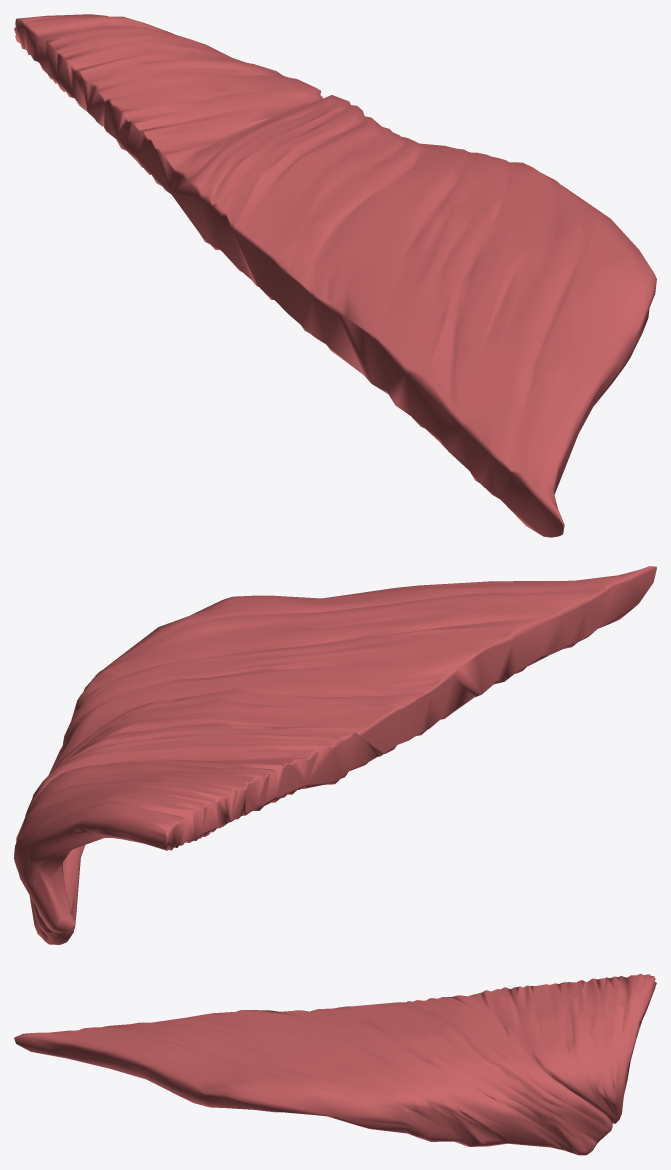
The picture shows the model from 3 angles, top to bottom: view 1: azimuth 30°, elevation 25°; view 2: azimuth 150°, elevation 25°; view 3: azimuth 270°, elevation 25°; orthographic projection. The views are drawn at different scales.
Visible parts, largest first — view 1: 左侧咽下缩肌; view 2: 左侧咽下缩肌; view 3: 左侧咽下缩肌.
Boxes of the visible parts, <box> form: 左侧咽下缩肌: <box>14,14,656,537</box>; 左侧咽下缩肌: <box>14,566,656,944</box>; 左侧咽下缩肌: <box>14,973,656,1155</box>.
Size of the model in its own units: 0.0325 by 0.0211 by 0.0959.
